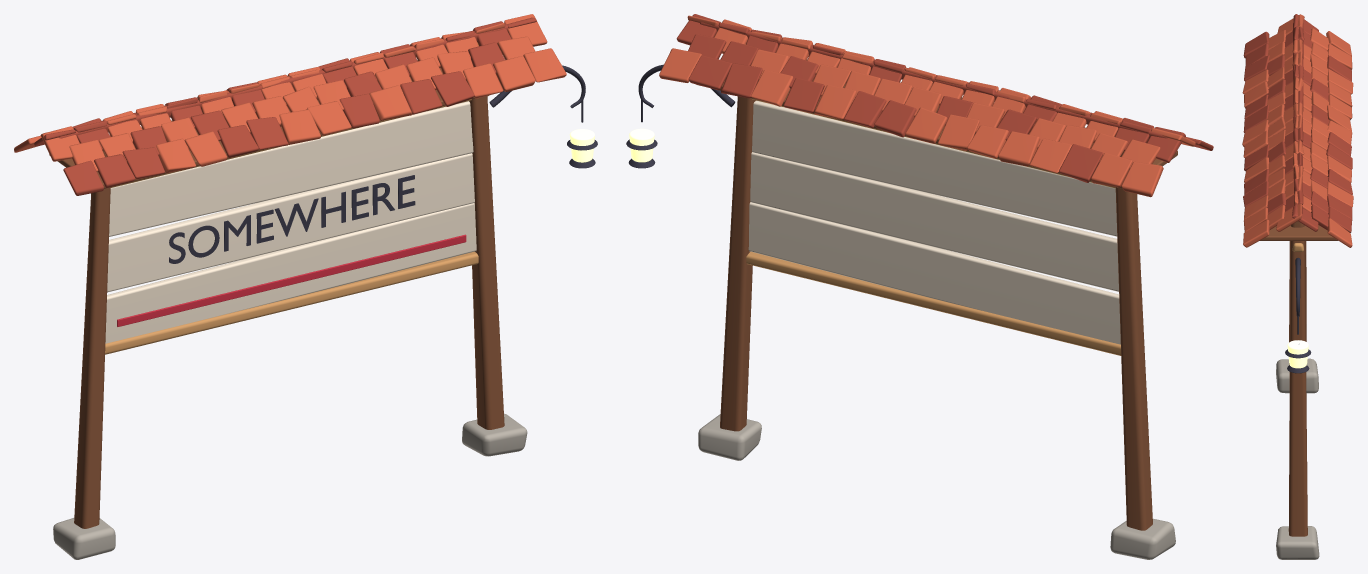
Rendered from station_sign.glb.
3 views of the same model, side by side, from view 1: azimuth 30°, elevation 25°; view 2: azimuth 150°, elevation 25°; view 3: azimuth 270°, elevation 25° (orthographic). The views are drawn at different scales.
Parts seen in each view (by area): view 1: board_plank.002, board_plank.001, board_plank, post, post.001, frame_bottom, label, stripe, post_foot, post_foot.001, ridge, roof_front_t.007 (+17 smaller); view 2: board_plank.001, board_plank, board_plank.002, post, post.001, frame_bottom, post_foot, post_foot.001, ridge, roof_back_t.013, roof_back_t.015, roof_back_t.011 (+13 smaller); view 3: post.001, post_foot.001, post_foot, rafter, lantern_glass, roof_front_t.015, roof_back_t, ridge, roof_front_t.012, roof_front_t.004, roof_front_t.006, roof_front_t.002 (+90 smaller).
Boxes of the visible parts, left/top/right/bottom form: board_plank.002: left=109, top=101, right=473, bottom=236; board_plank.001: left=107, top=153, right=474, bottom=292; board_plank: left=105, top=203, right=476, bottom=343; post: left=74, top=151, right=110, bottom=528; post.001: left=469, top=96, right=504, bottom=429; frame_bottom: left=105, top=251, right=478, bottom=354; label: left=169, top=175, right=415, bottom=263; stripe: left=117, top=234, right=466, bottom=326; post_foot: left=53, top=518, right=115, bottom=559; post_foot.001: left=462, top=413, right=527, bottom=456; ridge: left=59, top=24, right=508, bottom=138; roof_front_t.007: left=279, top=109, right=320, bottom=144; board_plank.001: left=750, top=152, right=1118, bottom=291; board_plank: left=748, top=202, right=1120, bottom=344; board_plank.002: left=752, top=100, right=1117, bottom=236; post: left=1115, top=151, right=1152, bottom=530; post.001: left=720, top=96, right=756, bottom=431; frame_bottom: left=746, top=251, right=1121, bottom=355; post_foot: left=1110, top=518, right=1175, bottom=559; post_foot.001: left=698, top=414, right=761, bottom=460; ridge: left=700, top=22, right=1167, bottom=138; roof_back_t.013: left=1059, top=144, right=1103, bottom=182; roof_back_t.015: left=1121, top=161, right=1163, bottom=197; roof_back_t.011: left=998, top=131, right=1040, bottom=166; post.001: left=1288, top=221, right=1307, bottom=536; post_foot.001: left=1276, top=526, right=1319, bottom=559; post_foot: left=1276, top=358, right=1318, bottom=393; rafter: left=1260, top=225, right=1338, bottom=240; lantern_glass: left=1287, top=340, right=1308, bottom=368; roof_front_t.015: left=1243, top=219, right=1269, bottom=247; roof_back_t: left=1327, top=218, right=1352, bottom=247; ridge: left=1292, top=23, right=1303, bottom=213; roof_front_t.012: left=1243, top=181, right=1268, bottom=207; roof_front_t.004: left=1244, top=81, right=1268, bottom=108; roof_front_t.006: left=1243, top=105, right=1268, bottom=132; roof_front_t.002: left=1244, top=55, right=1269, bottom=81.
Bounding box in the file's own units: 3.96 × 2.91 × 0.8227.
